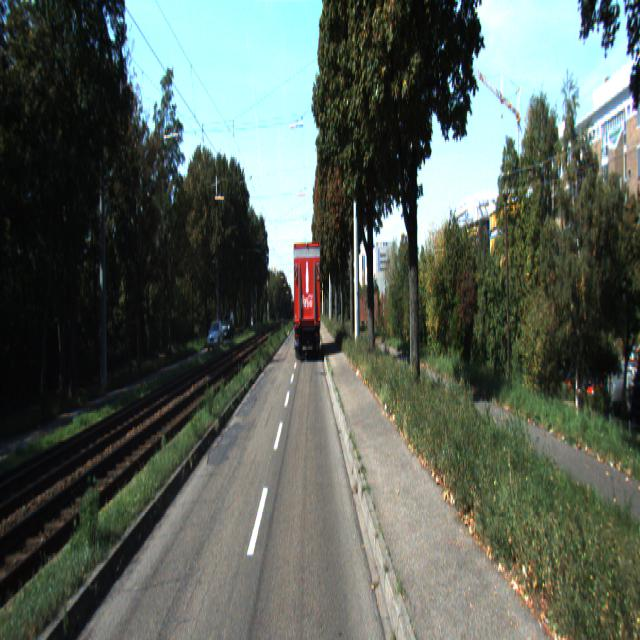Car: (291, 240, 322, 362), (207, 320, 224, 354)
